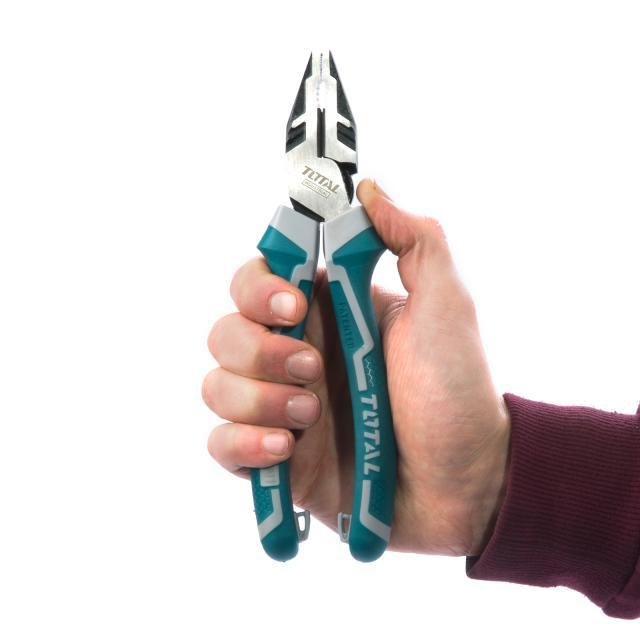pliers: (246, 44, 398, 567)
